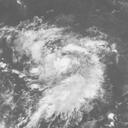cyclone: (39, 44, 104, 114)
